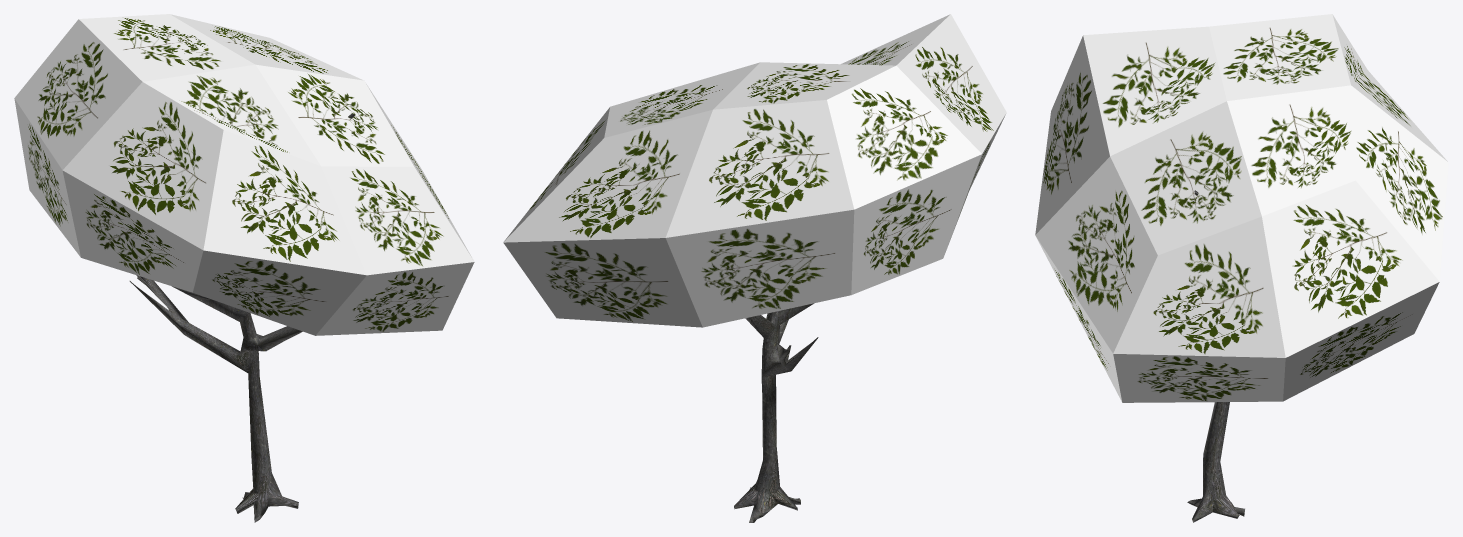
The model's file is QuadmeshTreeLowQuality.fbx.
3 renders of one model, left to right at view 1: azimuth 30°, elevation 25°; view 2: azimuth 150°, elevation 25°; view 3: azimuth 270°, elevation 25°, orthographic. The views are drawn at different scales.
Visible parts, largest first — view 1: TreeHighQuality.004; view 2: TreeHighQuality.004; view 3: TreeHighQuality.004.
Boxes of the visible parts, x1=… form: TreeHighQuality.004: x1=14, y1=14, x2=474, y2=522; TreeHighQuality.004: x1=503, y1=14, x2=1006, y2=522; TreeHighQuality.004: x1=1035, y1=14, x2=1448, y2=522.
Bounding box in the file's own units: 1109 × 1170 × 1321.
